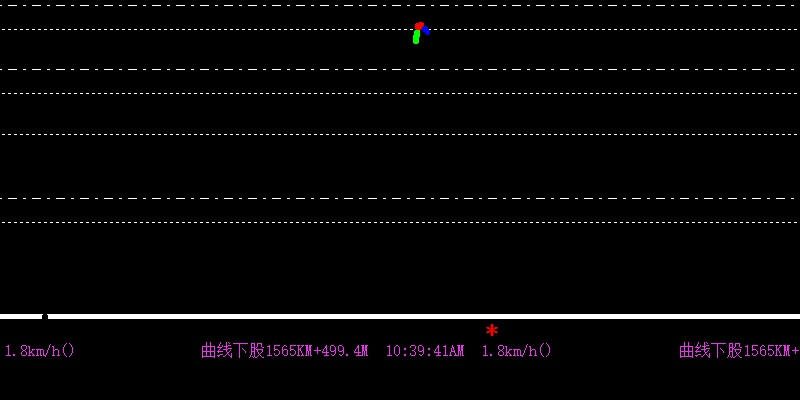face_2: (410, 19, 429, 46)
star: (483, 320, 498, 338)
